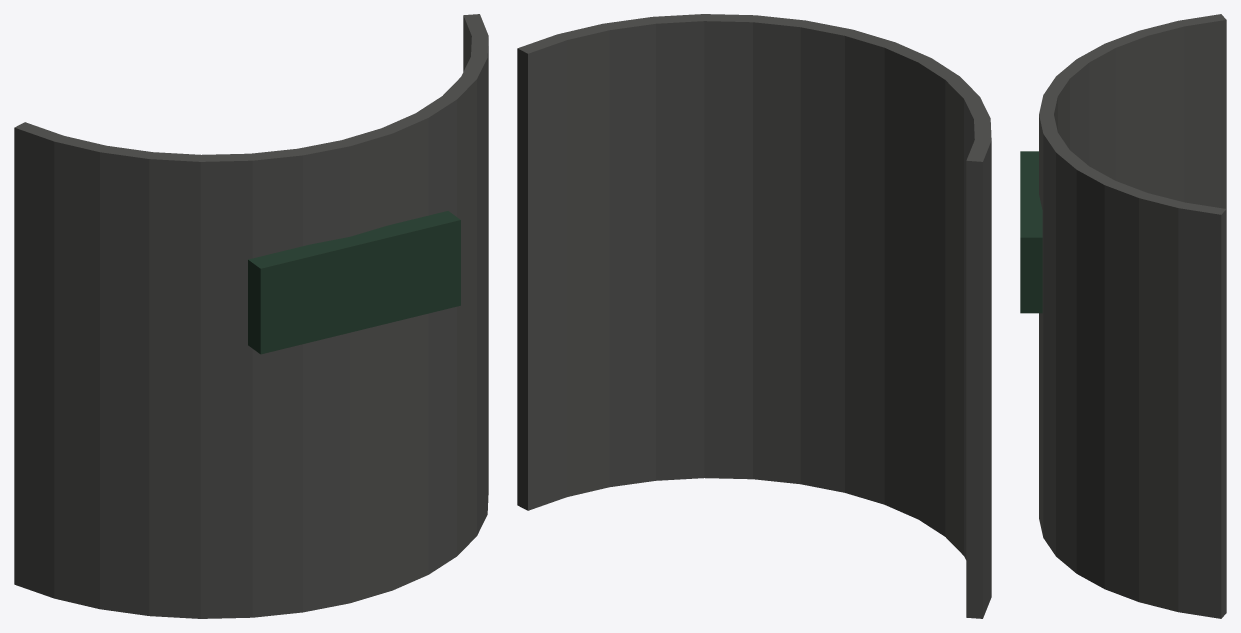
File: welderMask.glb
The picture shows the model from 3 angles, left to right: view 1: azimuth 30°, elevation 25°; view 2: azimuth 150°, elevation 25°; view 3: azimuth 270°, elevation 25°; orthographic projection. The views are drawn at different scales.
Parts seen in each view (by area): view 1: welder_mask, welder_window; view 2: welder_mask; view 3: welder_mask, welder_window.
Boxes of the visible parts, x1=… form: welder_mask: x1=14, y1=14, x2=488, y2=618; welder_window: x1=248, y1=211, x2=460, y2=354; welder_mask: x1=517, y1=14, x2=991, y2=618; welder_mask: x1=1039, y1=14, x2=1226, y2=618; welder_window: x1=1020, y1=151, x2=1042, y2=313.
Bounding box in the file's own units: 0.2558 × 0.24 × 0.1109.
